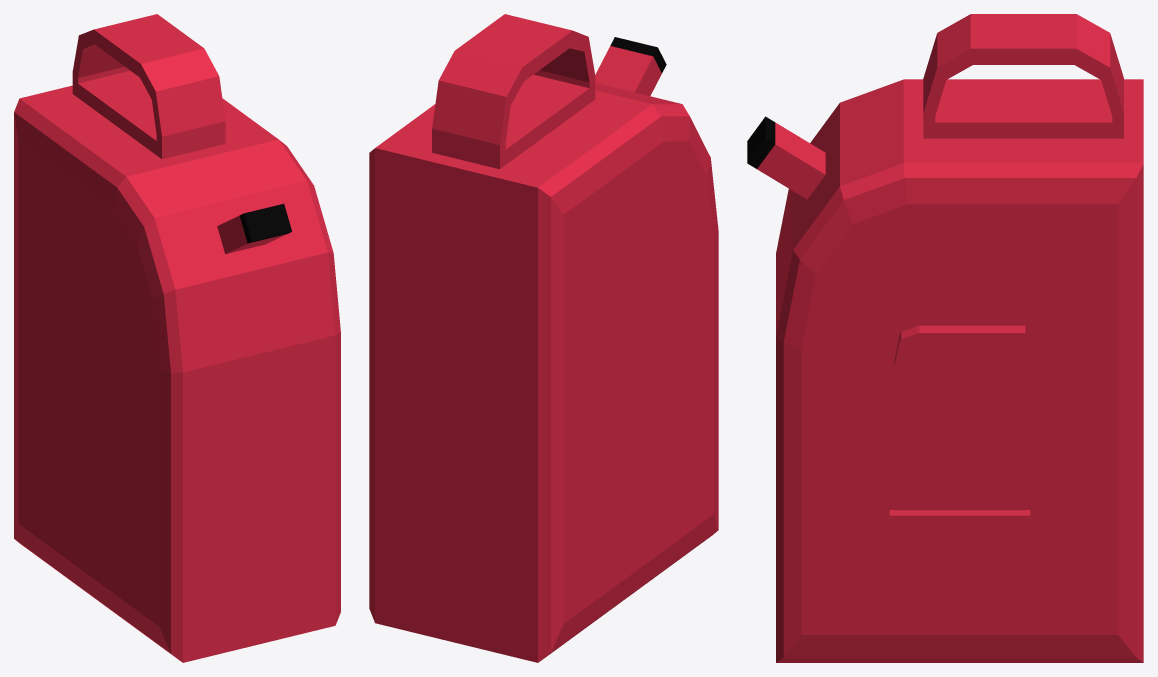
File: jerrycan.fbx
3 views of the same model, side by side, from view 1: azimuth 30°, elevation 25°; view 2: azimuth 150°, elevation 25°; view 3: azimuth 270°, elevation 25° (orthographic). The views are drawn at different scales.
Parts seen in each view (by area): view 1: Cube; view 2: Cube; view 3: Cube.
Boxes of the visible parts, <box> form: Cube: <box>14,14,340,662</box>; Cube: <box>369,14,718,662</box>; Cube: <box>747,14,1143,662</box>.
Size of the model in its own units: 102 by 283 by 173.
